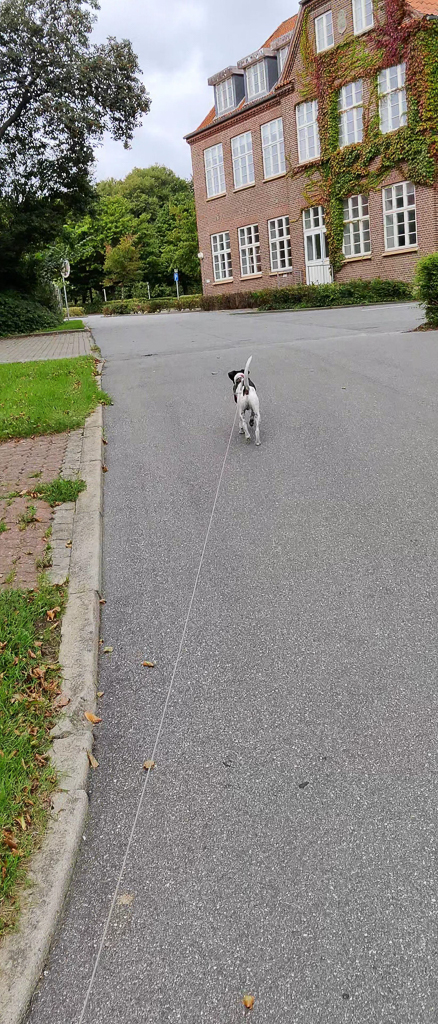Dog: (216, 346, 273, 455)
